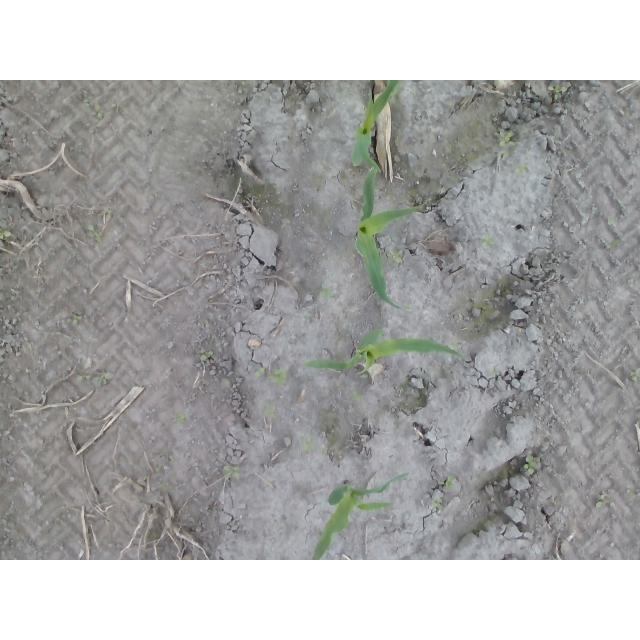Maize: (355, 164, 416, 309), (312, 472, 409, 560), (304, 328, 464, 375), (352, 81, 400, 168)
Weeds: (255, 367, 287, 386), (522, 453, 539, 475), (223, 464, 241, 481), (548, 83, 568, 98), (498, 130, 514, 148), (92, 372, 112, 385), (389, 248, 404, 264), (88, 223, 101, 241), (481, 235, 496, 250), (66, 313, 84, 325), (430, 497, 444, 512), (445, 476, 457, 493), (90, 103, 102, 120), (198, 351, 215, 362), (594, 493, 604, 508), (514, 165, 527, 176), (630, 367, 640, 381), (323, 288, 333, 301), (263, 404, 273, 416), (0, 229, 10, 240), (175, 413, 185, 421), (353, 392, 363, 400)
